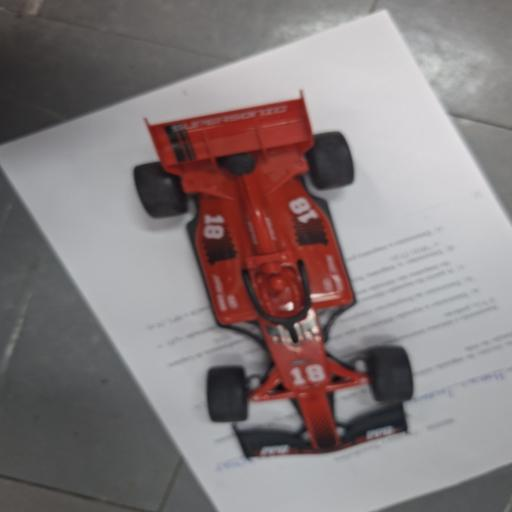carro: (135, 98, 412, 456)
